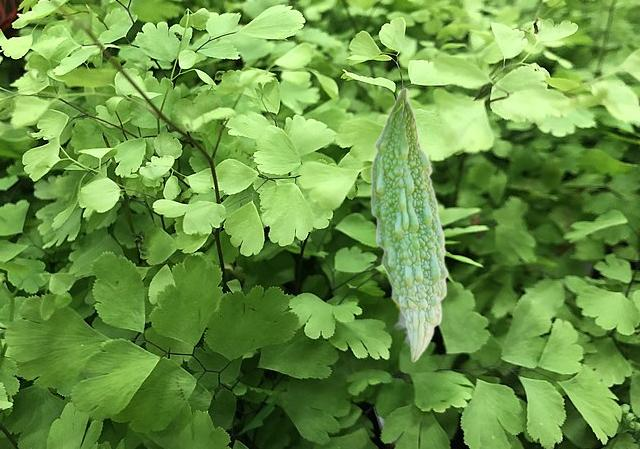ampalaya: (368, 85, 449, 362)
